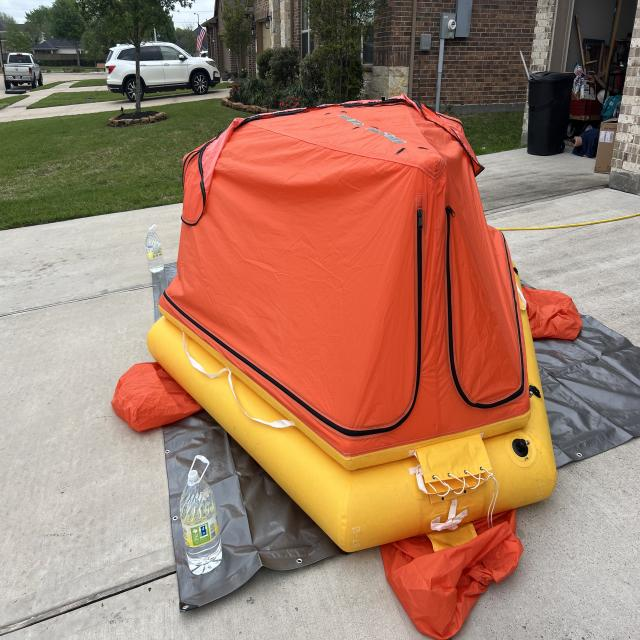Multi-person_life_raft: (110, 91, 580, 638)
